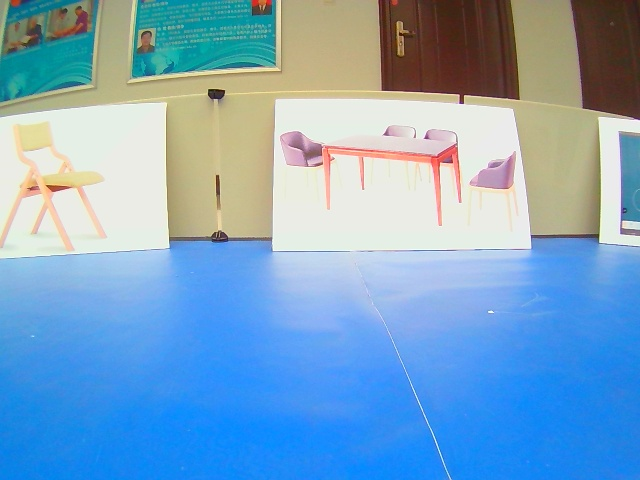table: (272, 97, 533, 251), (1, 102, 171, 260)
